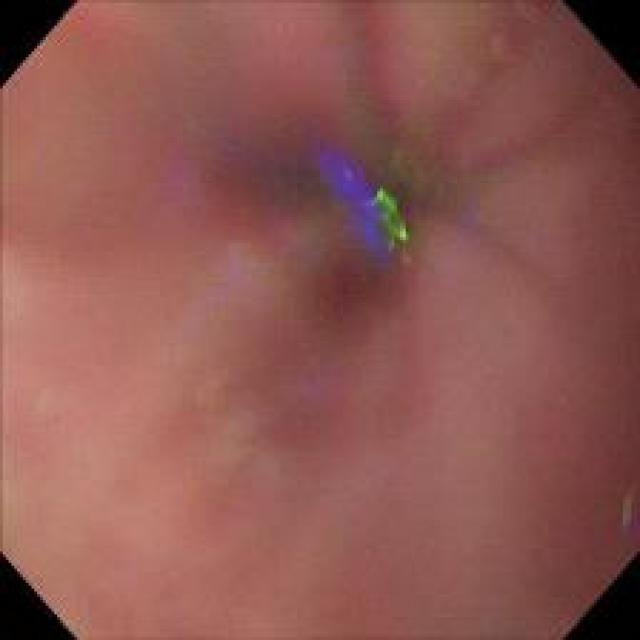blur: (1, 1, 639, 638)
color misalignment: (316, 144, 418, 266), (298, 346, 352, 411), (161, 144, 205, 221), (484, 24, 525, 58), (522, 201, 544, 256), (618, 486, 636, 540), (494, 136, 525, 164), (459, 189, 478, 234)
